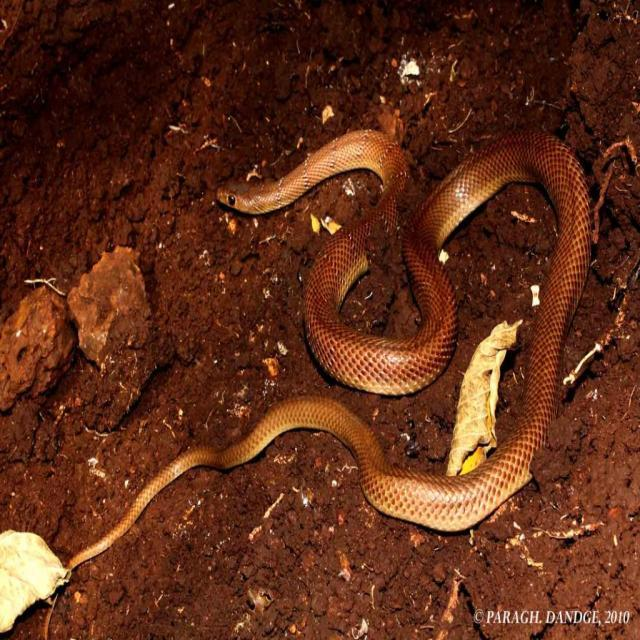Snake: (65, 120, 595, 590)
